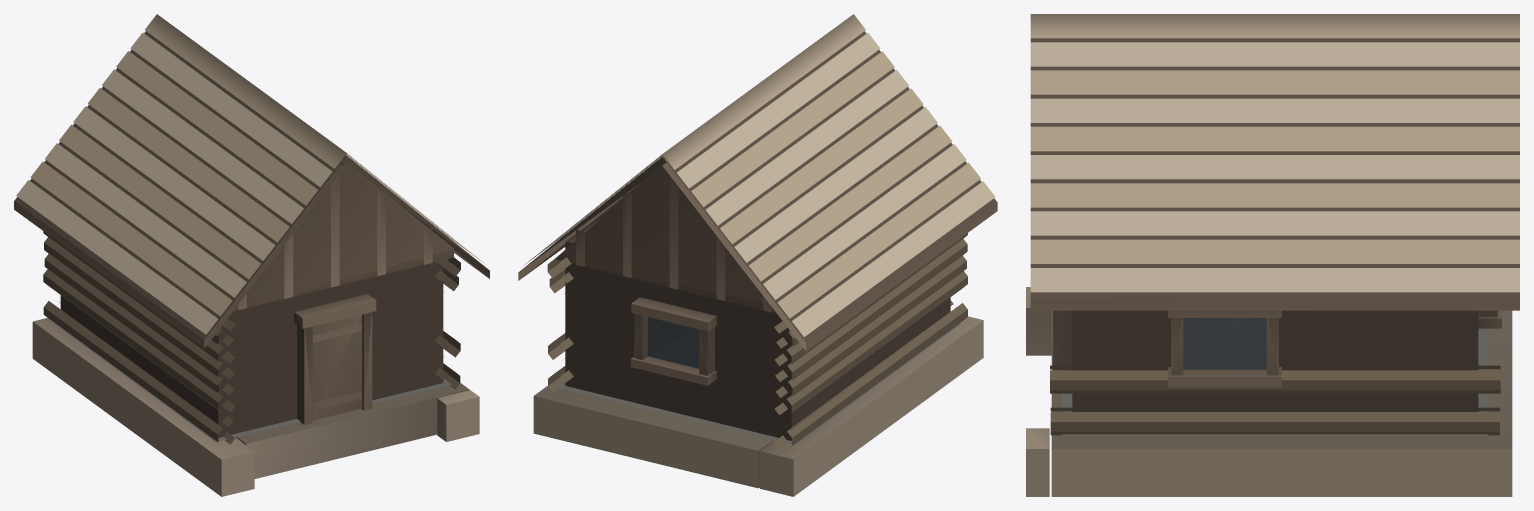
The model's file is logcabin.lod.glb.
The picture shows the model from 3 angles, left to right: view 1: azimuth 30°, elevation 25°; view 2: azimuth 150°, elevation 25°; view 3: azimuth 270°, elevation 25°; orthographic projection. The views are drawn at different scales.
Visible parts, largest first — view 1: logcabin; view 2: logcabin; view 3: logcabin.
Part boxes in pixels (x1,y1,x2,y2): logcabin: (14, 14, 489, 496); logcabin: (518, 14, 997, 496); logcabin: (1026, 14, 1519, 496).
Bounding box in the file's own units: 8.26 × 8.61 × 9.61.
